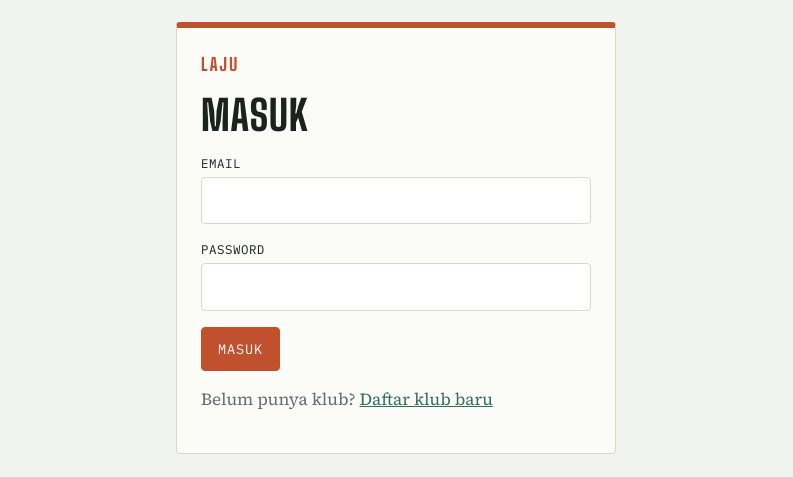
Scenario: routing & auth › logs in and shows the logged-in user on the dashboard
In the field labelled "Email": (396, 201) [201,177,591,224], type "budi@example.com"
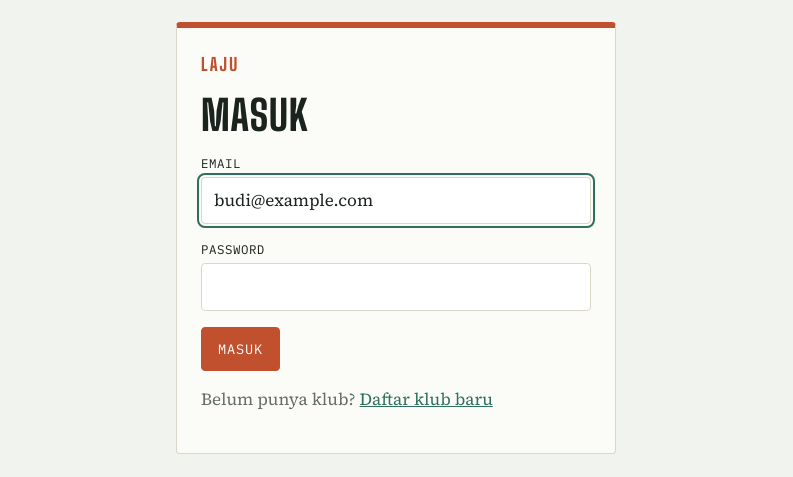
In the password field labelled "Password": (396, 287) [201,263,591,310], type "rahasia-banget-123"
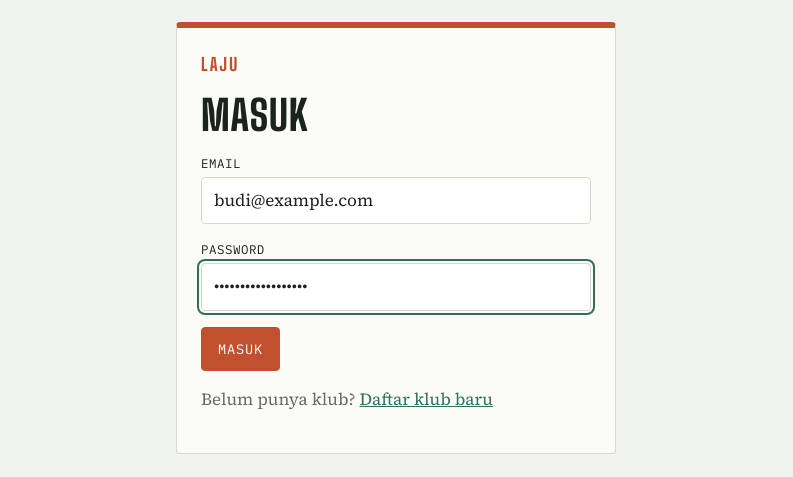
Click the button "Masuk": click(240, 348) [201,326,280,370]
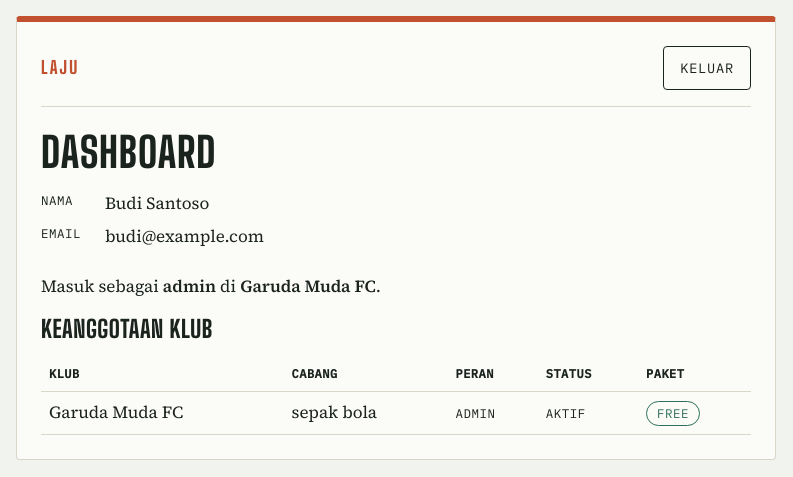
Now the heading "Dashboard" is shown, box [41,127,216,177]
Now the text "Budi Santoso" is shown, box [105,191,209,215]
Now the text "Garuda Muda FC" is shown, box [240,274,376,298]
